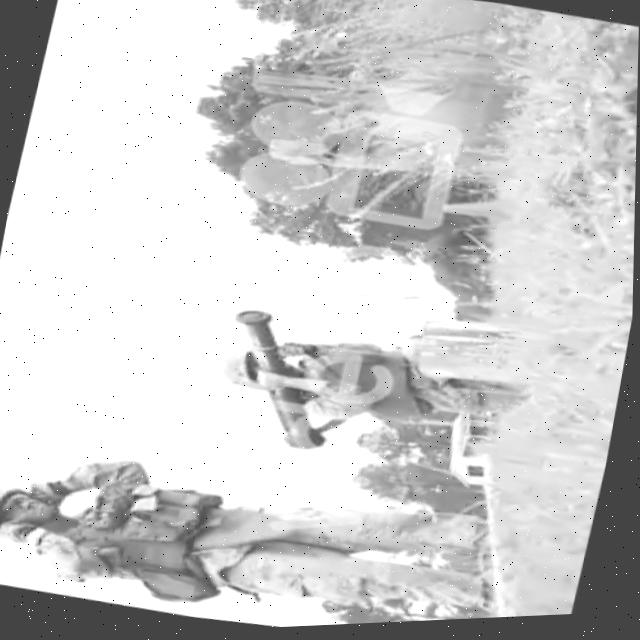rocket: (210, 302, 363, 462)
